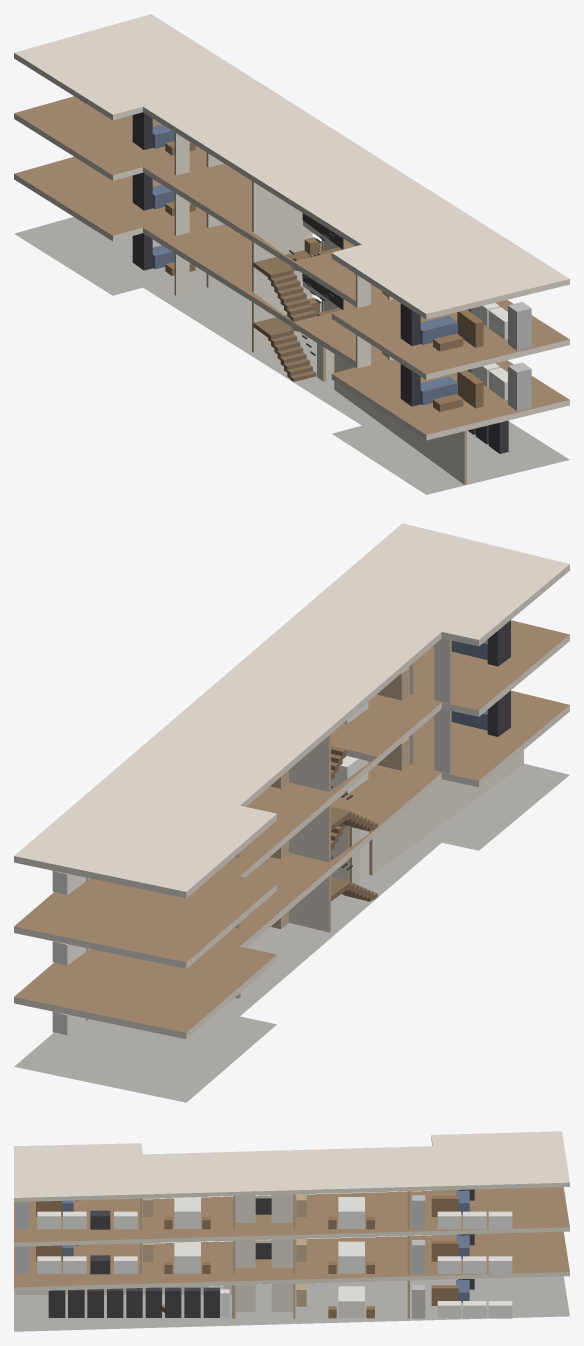
File: interior.glb
3 renders of one model, top to bottom at view 1: azimuth 30°, elevation 25°; view 2: azimuth 150°, elevation 25°; view 3: azimuth 270°, elevation 25°, orthographic. The views are drawn at different scales.
Parts seen in each view (by area): view 1: slabs, partitions, coarse-s1, coarse-s2, stair, coarse-s0, flat-walls-2--155, flat-walls-1--155, flat-walls-0--155; view 2: slabs, partitions, coarse-s1, coarse-s2, stair, flat-walls-2-33, flat-walls-1-33, coarse-s0; view 3: slabs, coarse-s0, coarse-s2, coarse-s1, partitions, stair.
Boxes of the visible parts, <box> form: slabs: <box>14,14,569,494</box>; partitions: <box>252,181,466,484</box>; coarse-s1: <box>132,173,531,411</box>; coarse-s2: <box>132,112,531,351</box>; stair: <box>253,213,343,381</box>; coarse-s0: <box>132,233,508,453</box>; flat-walls-2--155: <box>174,132,223,175</box>; flat-walls-1--155: <box>174,193,223,235</box>; flat-walls-0--155: <box>174,253,223,295</box>; slabs: <box>14,523,569,1102</box>; partitions: <box>289,734,523,932</box>; coarse-s1: <box>52,690,510,965</box>; coarse-s2: <box>52,620,510,894</box>; stair: <box>331,745,377,901</box>; flat-walls-2-33: <box>408,638,451,703</box>; flat-walls-1-33: <box>408,709,451,773</box>; coarse-s0: <box>52,911,288,1035</box>; slabs: <box>14,1131,569,1331</box>; coarse-s0: <box>48,1279,512,1318</box>; coarse-s2: <box>16,1189,512,1229</box>; coarse-s1: <box>16,1234,512,1274</box>; partitions: <box>15,1194,295,1318</box>; stair: <box>255,1198,271,1284</box>.
Size of the model in its own units: 8.98 by 8.4 by 31.57.
